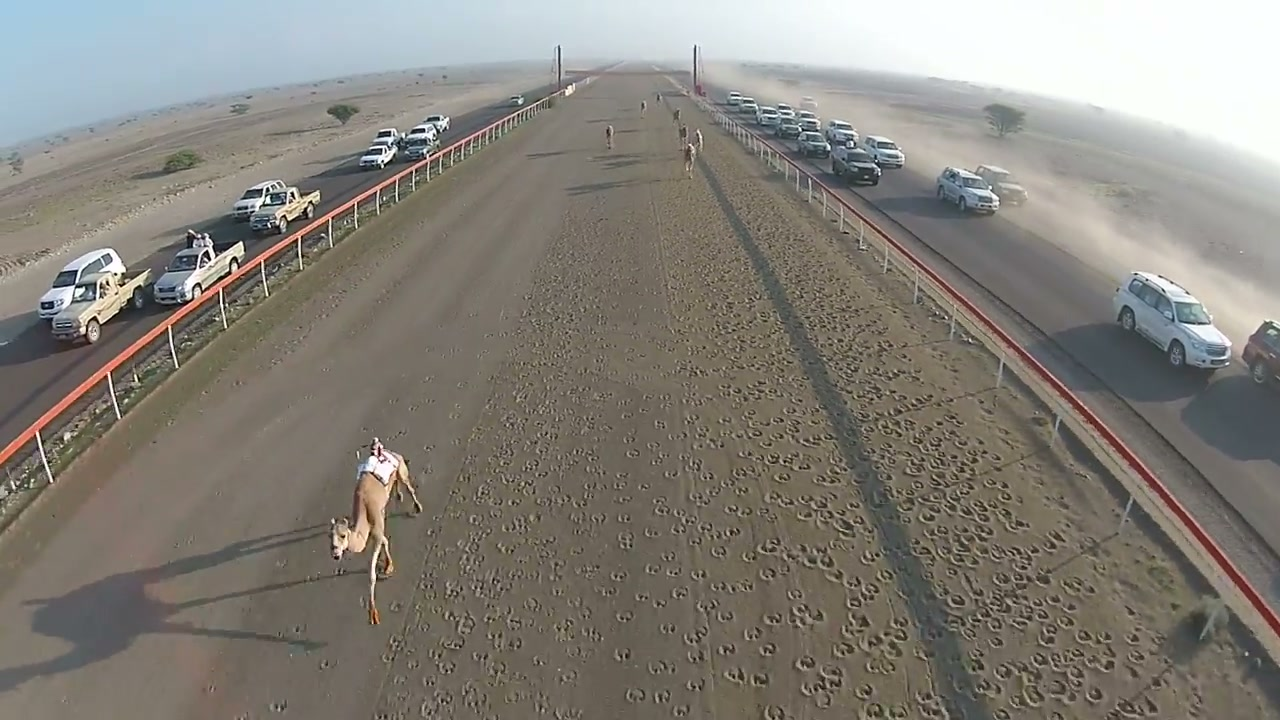animal_foot_print: (379, 133, 1276, 719), (664, 152, 1275, 717)
